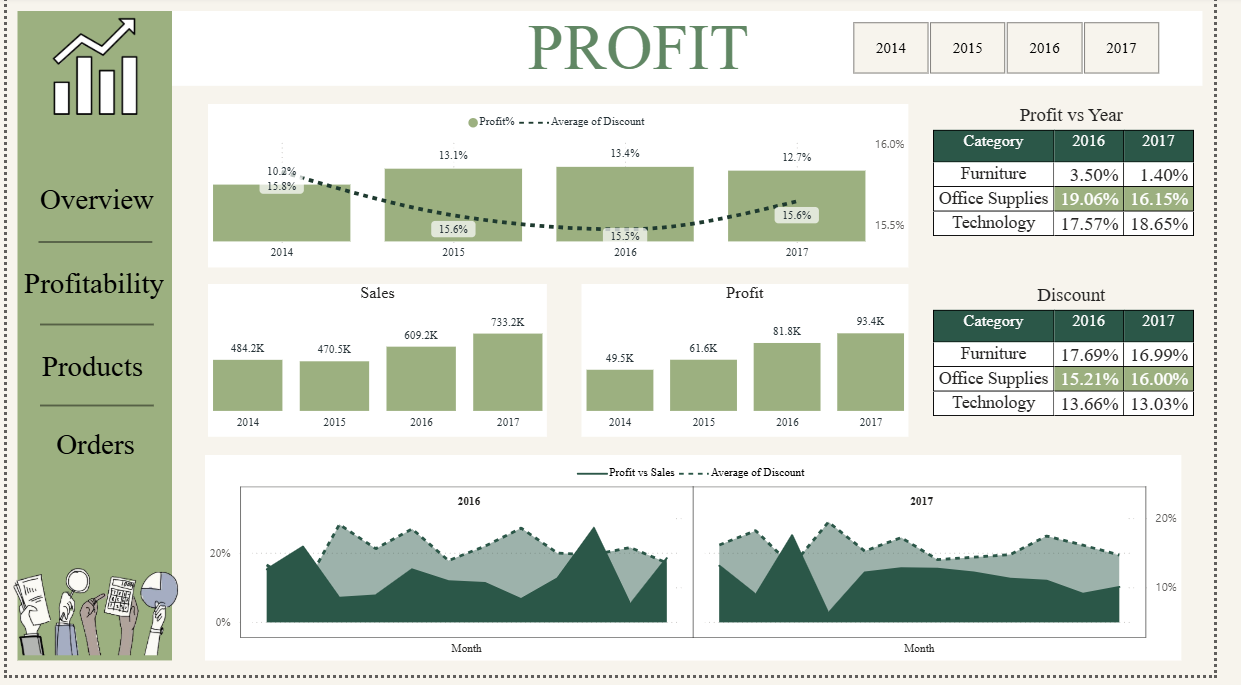

This screenshot's page, from the dashboard's own definition file:
{"tool":"powerbi","page":{"name":"Profit","canvas":[1280,720],"ordinal":1},"visuals":[{"type":"shape","box":[11.1,15.9,163.8,688.7],"z":0},{"type":"image","box":[6.4,17.5,175,114.5],"z":1000},{"type":"image","box":[0,583.2,187.7,136.8],"z":2000},{"type":"shape","box":[175,15.9,1092.7,79.5],"z":3000},{"type":"slicer","fields":{"Values":["Calender.Year"]},"box":[871.7,20.7,373.8,68.4],"z":4000},{"type":"textbox","title":"PROFIT","box":[547.2,15.9,259.3,77.9],"z":5000},{"type":"columnChart","title":"Profit","fields":{"Category":["Calender.Year"],"Y":["Sum(super_store_datasets.Profit)"]},"box":[609.2,305.4,346.8,162.2],"z":6000},{"type":"pivotTable","title":"Discount","fields":{"Rows":["super_store_datasets.Category"],"Columns":["Calender.Year"],"Values":["Avg(super_store_datasets.Discount)"]},"box":[976.6,305.4,303.8,147.9],"z":7000},{"type":"pivotTable","title":"Profit vs Year","fields":{"Rows":["super_store_datasets.Category"],"Columns":["Calender.Year"],"Values":["super_store_datasets.___profit vs sales"]},"box":[976.6,114.5,303.8,147.9],"z":8000},{"type":"lineStackedColumnComboChart","fields":{"Category":["Calender.Year"],"Y2":["Avg(super_store_datasets.Discount)"],"Y":["super_store_datasets.___profit vs sales"]},"box":[213.1,114.5,742.8,173.4],"z":9000},{"type":"columnChart","title":"Sales","fields":{"Category":["Calender.Year"],"Y":["Sum(super_store_datasets.Sales)"]},"box":[213.1,305.4,359.5,162.2],"z":10000},{"type":"lineChart","fields":{"Category":["Calender.Date.Variation.Date Hierarchy.Month"],"Y":["super_store_datasets.___profit vs sales"],"Rows":["Calender.Year"],"Y2":["Avg(super_store_datasets.Discount)"]},"box":[210,486.7,1035.5,217.9],"z":11000},{"type":"actionButton","box":[14.3,194.1,162.2,41.4],"z":12000},{"type":"shape","box":[33.4,238.6,120.9,44.5],"z":13000},{"type":"actionButton","box":[11.1,283.1,162.2,41.4],"z":14000},{"type":"shape","box":[35,324.5,120.9,47.7],"z":15000},{"type":"actionButton","box":[19.1,370.6,143.2,41.4],"z":16000},{"type":"shape","box":[35,412,120.9,44.5],"z":17000},{"type":"actionButton","box":[22.3,453.3,143.2,41.4],"z":18000}]}

Visuals, with their boxes in screenshot pixels (x1, y1, x2, y2), scaled from the page's 1280x720 canvas onto the 1241x685 screenshot:
shape: box(11, 15, 170, 670)
image: box(6, 17, 176, 126)
image: box(0, 555, 182, 684)
shape: box(170, 15, 1229, 91)
slicer - Calender.Year: box(845, 20, 1208, 85)
"PROFIT" textbox: box(531, 15, 782, 89)
"Profit" columnChart: box(591, 291, 927, 445)
"Discount" pivotTable: box(947, 291, 1240, 431)
"Profit vs Year" pivotTable: box(947, 109, 1240, 250)
lineStackedColumnComboChart - Calender.Year x Avg(super_store_datasets.Discount): box(207, 109, 927, 274)
"Sales" columnChart: box(207, 291, 555, 445)
lineChart - Calender.Date.Variation.Date Hierarchy.Month x super_store_datasets.___profit vs sales: box(204, 463, 1208, 670)
actionButton: box(14, 185, 171, 224)
shape: box(32, 227, 150, 269)
actionButton: box(11, 269, 168, 309)
shape: box(34, 309, 151, 354)
actionButton: box(19, 353, 157, 392)
shape: box(34, 392, 151, 434)
actionButton: box(22, 431, 160, 471)
